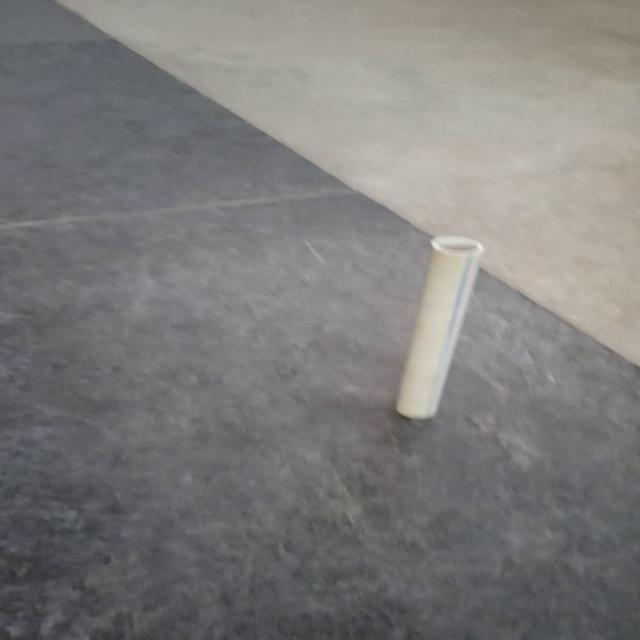Cube: (393, 234, 484, 420)
